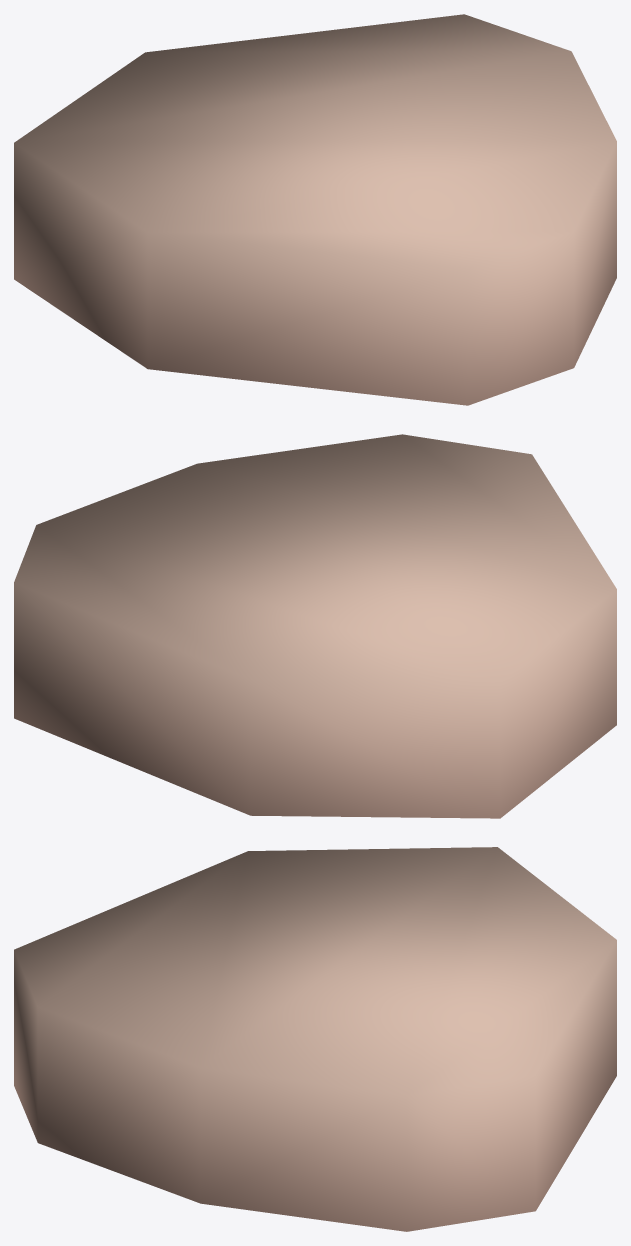
The model's file is (%no-merge) 46.glb.
3 renders of one model, top to bottom at view 1: azimuth 30°, elevation 25°; view 2: azimuth 150°, elevation 25°; view 3: azimuth 270°, elevation 25°, orthographic.
Parts seen in each view (by area): view 1: (%no-merge) 46; view 2: (%no-merge) 46; view 3: (%no-merge) 46.
Part boxes in pixels (<box>): (%no-merge) 46: <box>14,14,616,405</box>; (%no-merge) 46: <box>14,434,616,818</box>; (%no-merge) 46: <box>14,847,616,1231</box>.
Bounding box in the file's own units: 0.0911 × 0.0232 × 0.0933.
